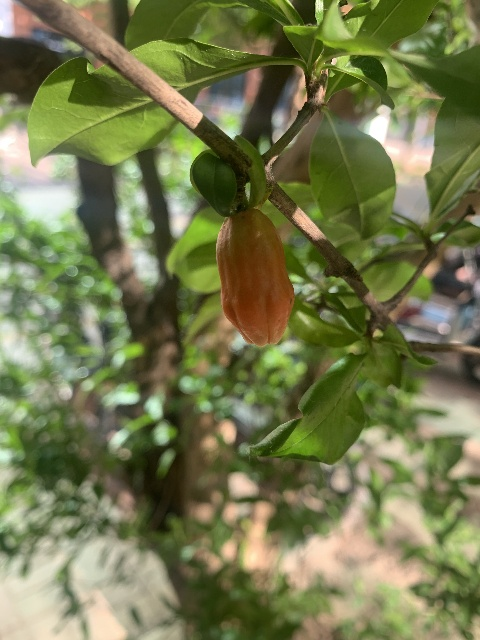bud: (216, 208, 294, 346)
